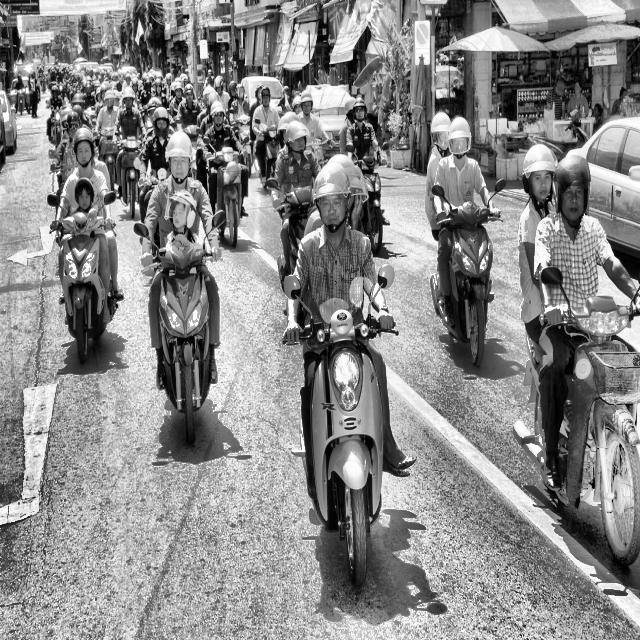Helmet: (556, 145, 594, 237), (314, 163, 356, 238), (516, 140, 558, 211), (450, 107, 478, 173), (66, 119, 100, 173), (167, 192, 202, 240), (168, 126, 197, 180), (426, 105, 455, 157), (282, 121, 316, 162), (209, 97, 228, 128), (354, 94, 370, 128)
